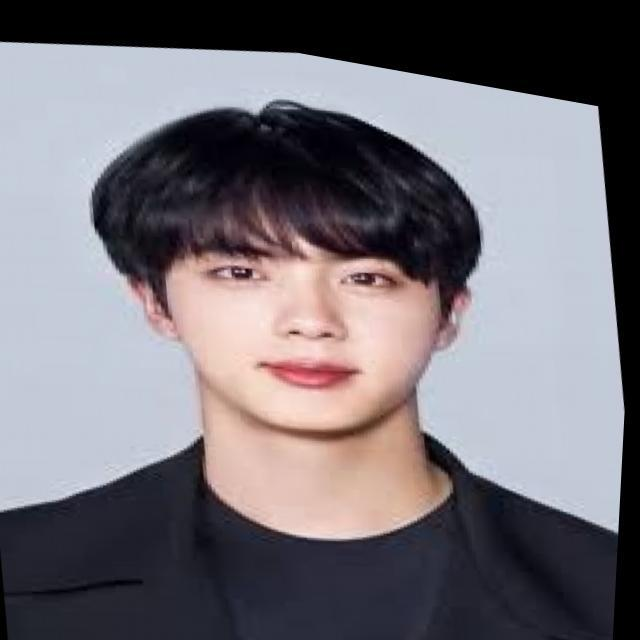Nonhelmet: (86, 94, 487, 439)
